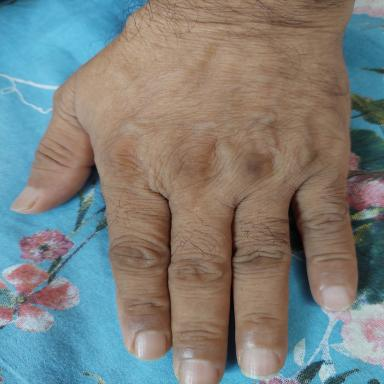normal skin: (11, 0, 358, 384)
